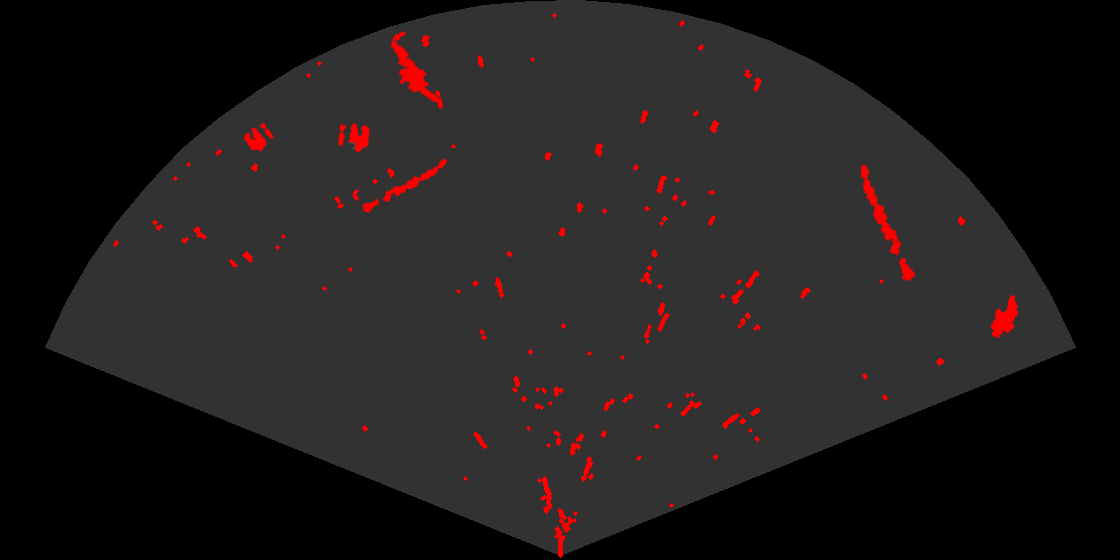AUV: (989, 293, 1020, 340)
ball: (337, 121, 371, 154), (242, 121, 275, 153)
chain: (859, 163, 917, 283), (360, 157, 449, 214)
frogman: (389, 39, 441, 102)
